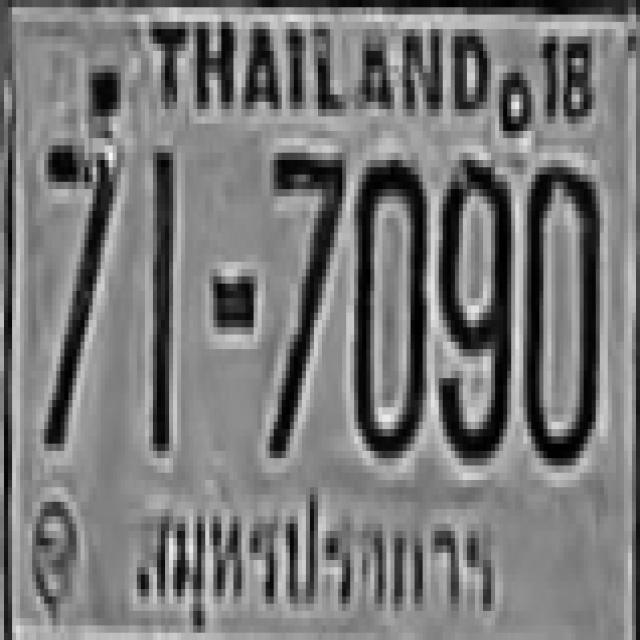0: (523, 153, 596, 458), (350, 153, 423, 451)
1: (149, 142, 173, 447)
7: (268, 145, 344, 451), (42, 138, 115, 444)
9: (435, 156, 507, 454)
SamutPrakan: (126, 480, 520, 640)
